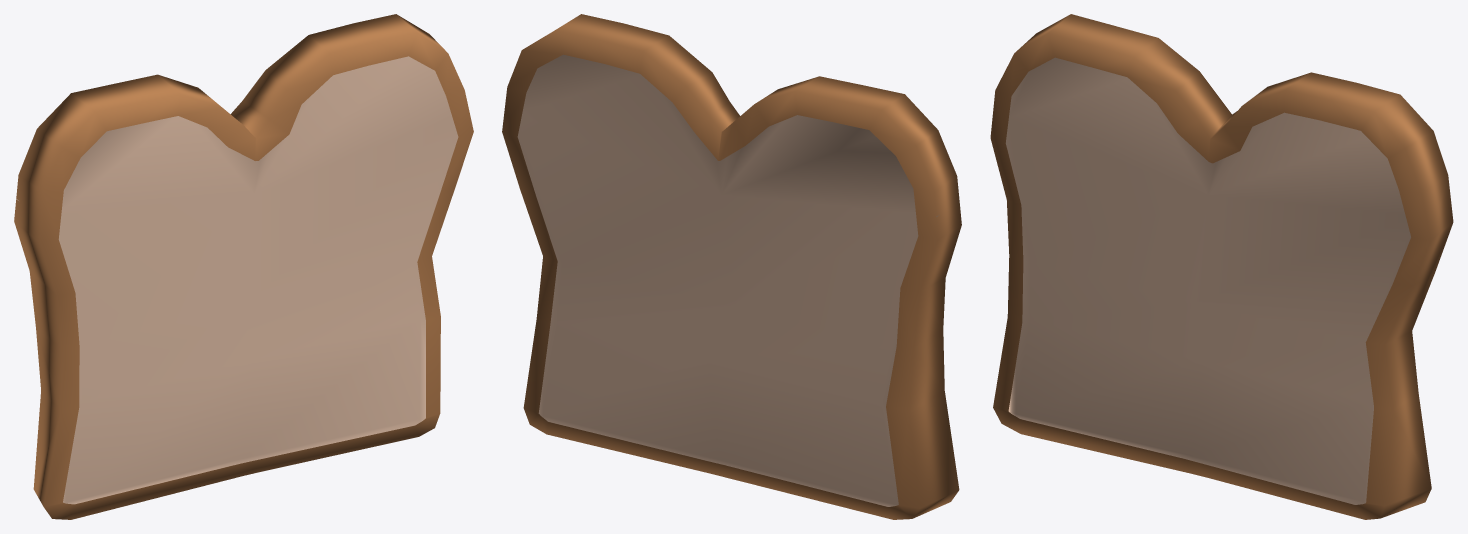
Rendered from Toast.fbx.
3 views of the same model, side by side, from view 1: azimuth 30°, elevation 25°; view 2: azimuth 150°, elevation 25°; view 3: azimuth 330°, elevation 25° (orthographic).
Visible parts, largest first — view 1: Plane.004; view 2: Plane.004; view 3: Plane.004.
Boxes of the visible parts, <box> form: Plane.004: <box>14,14,473,519</box>; Plane.004: <box>502,14,961,519</box>; Plane.004: <box>990,14,1453,519</box>.
Size of the model in its own units: 201 by 179 by 28.84.
